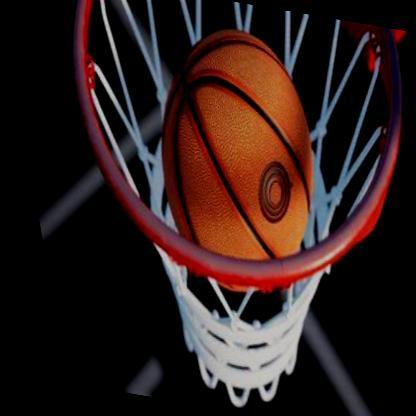basketball: (113, 16, 349, 303)
